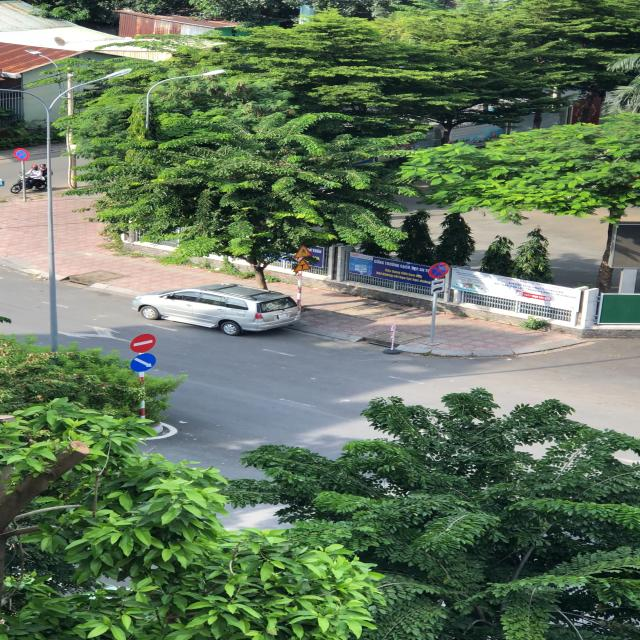Bien bao cam di nguoc chieu: (130, 331, 160, 353)
Bien bao duong giao nhau: (292, 258, 316, 272)
Bien bao duong nguoi di bo cat ngang: (293, 244, 315, 258)
Bien bao huong phai di vong chuong ngai vat: (128, 352, 161, 373)
